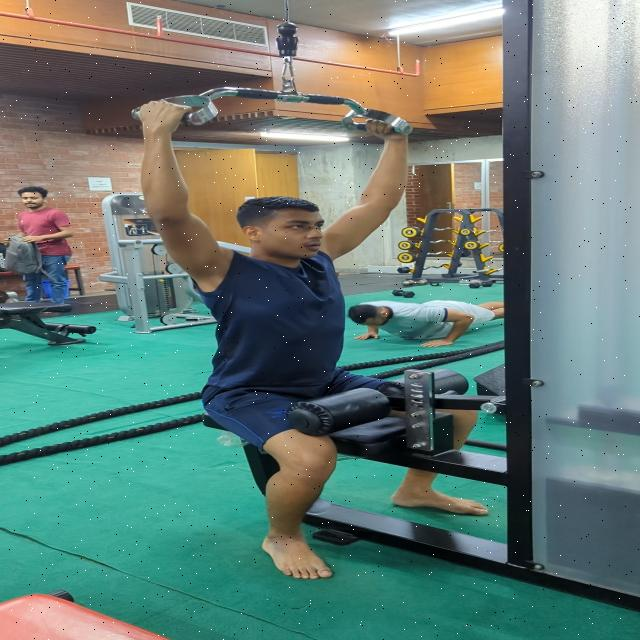Normal_LatPulldown: (115, 95, 492, 592)
